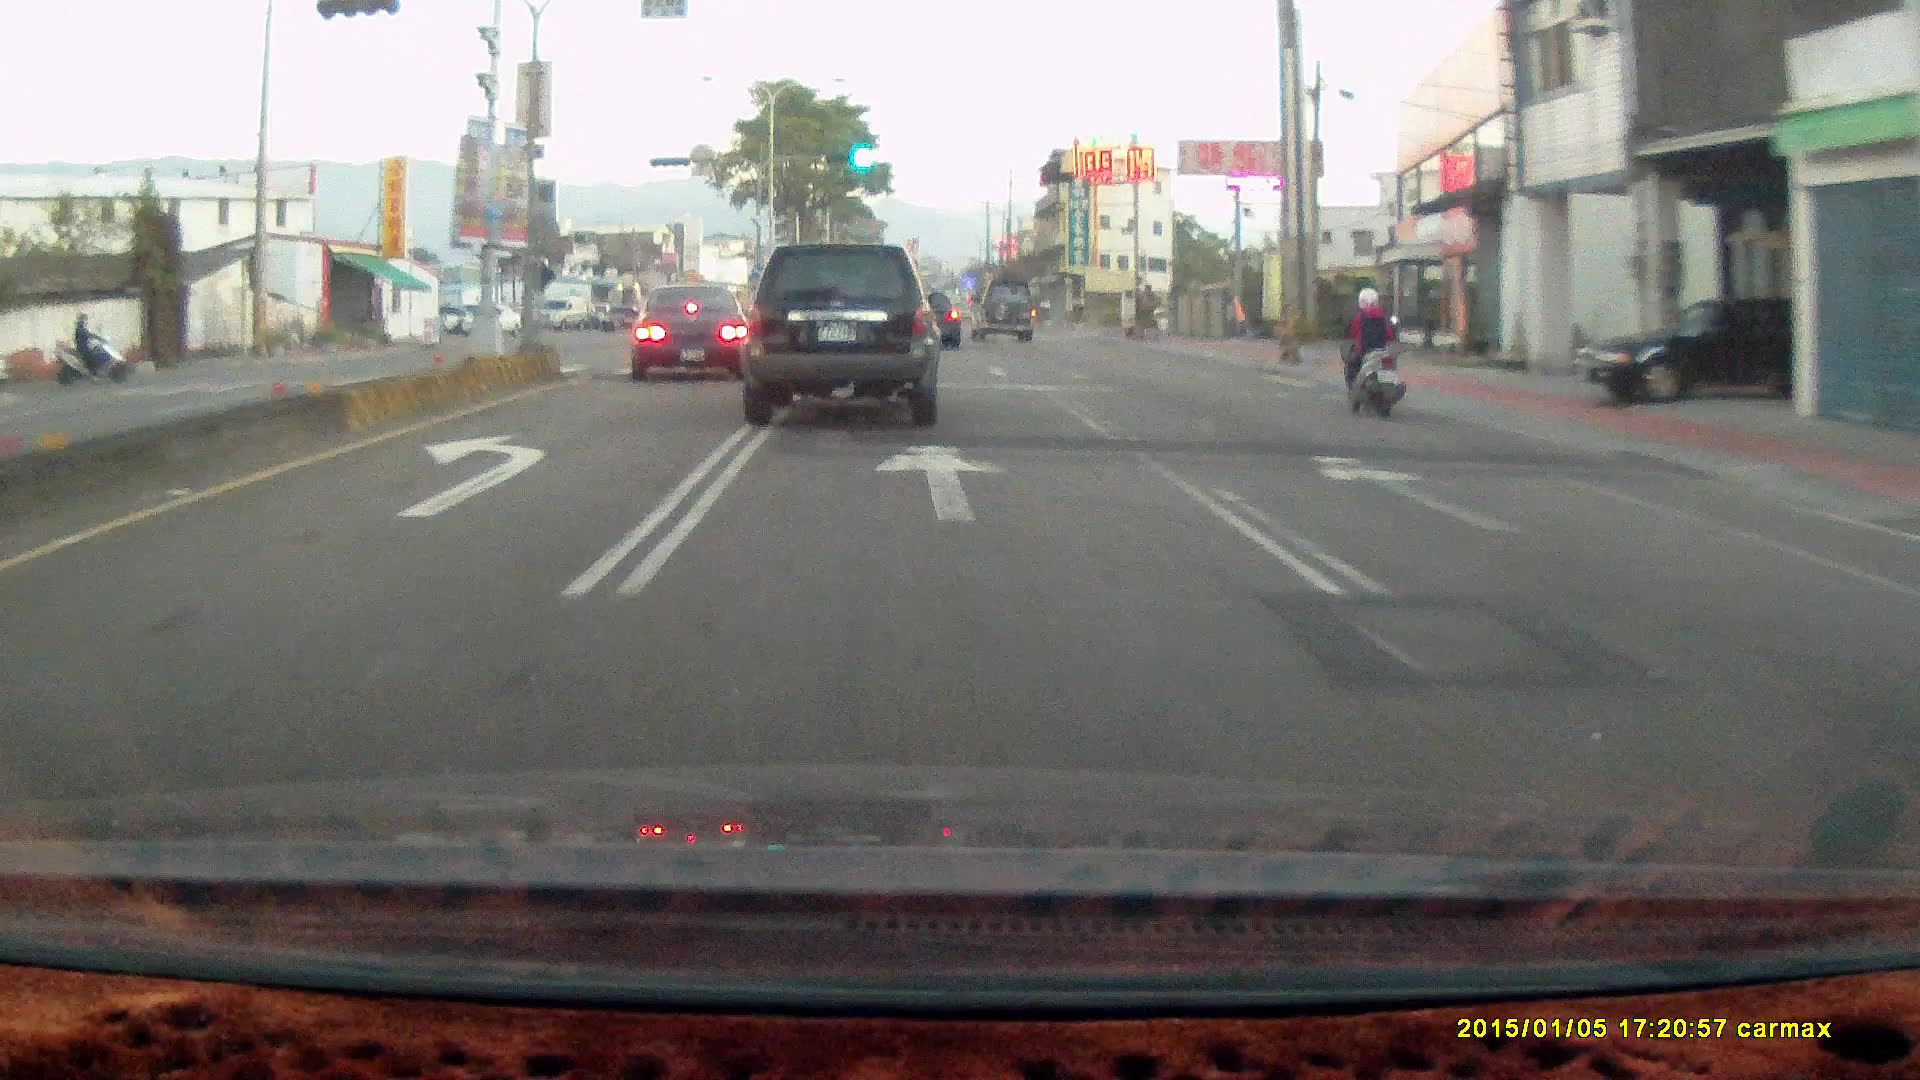rider: (1326, 276, 1420, 430), (1331, 286, 1403, 418), (28, 295, 136, 381)
vehicle: (743, 235, 950, 424), (742, 240, 946, 423), (1572, 292, 1873, 403), (1587, 294, 1802, 406), (629, 279, 759, 383), (629, 277, 755, 377), (969, 277, 1037, 343), (968, 277, 1035, 339), (895, 289, 963, 351), (457, 302, 521, 337), (527, 296, 585, 329), (600, 304, 641, 330)
